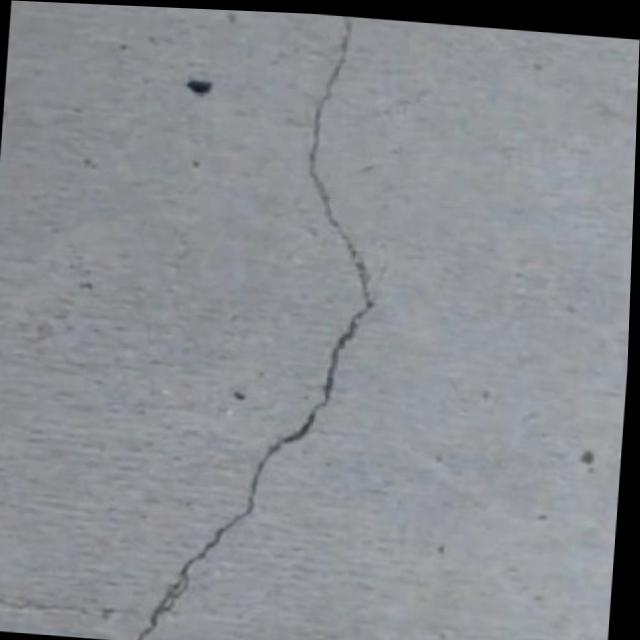Crack: (124, 5, 404, 640)
